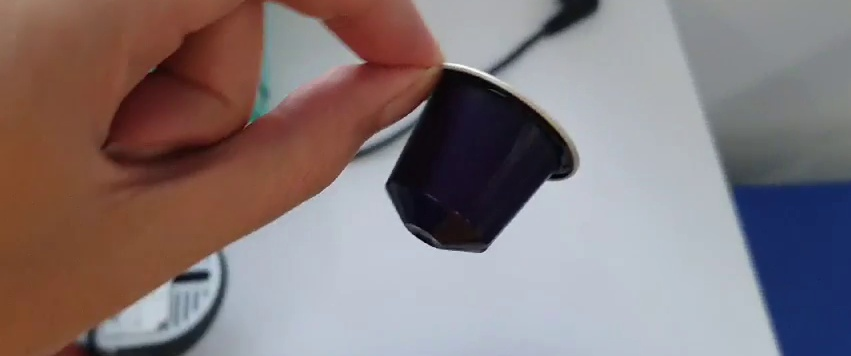capsule_2: (384, 61, 586, 254)
